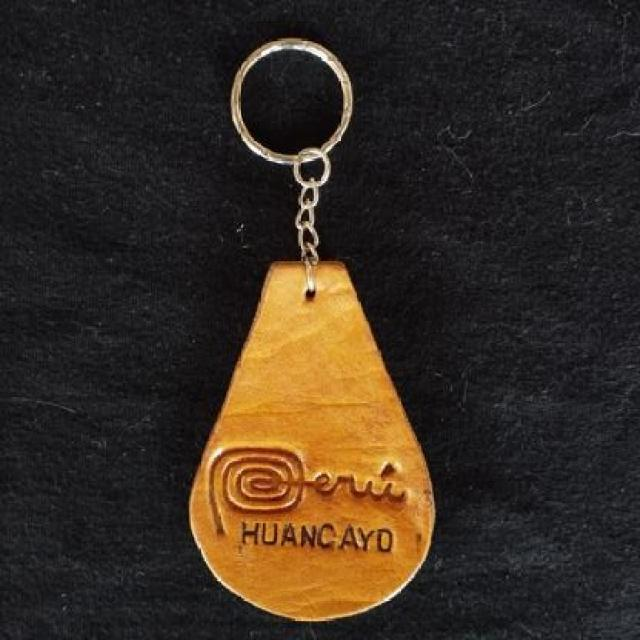Llavero: (186, 256, 437, 622)
